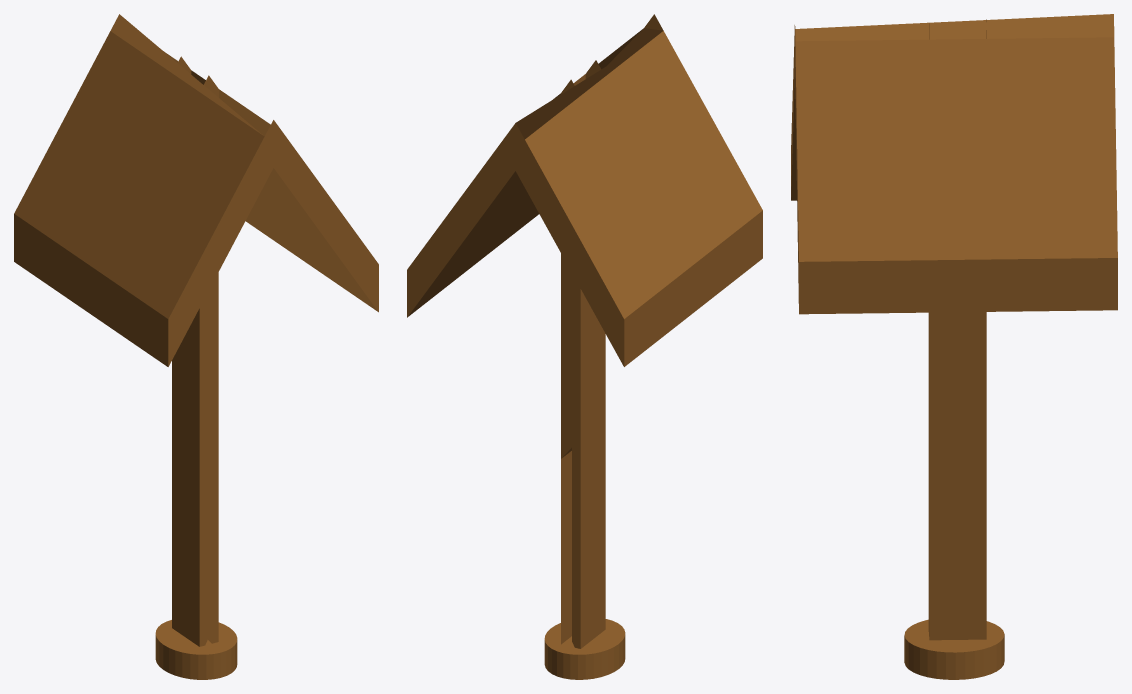
File: batuganan1.fbx
The picture shows the model from 3 angles, left to right: view 1: azimuth 30°, elevation 25°; view 2: azimuth 150°, elevation 25°; view 3: azimuth 270°, elevation 25°; orthographic projection. The views are drawn at different scales.
Parts seen in each view (by area): view 1: batoganan; view 2: batoganan; view 3: batoganan.
Part boxes in pixels (<box>): batoganan: <box>14,14,378,679</box>; batoganan: <box>407,14,762,679</box>; batoganan: <box>791,14,1117,679</box>.
Bounding box in the file's own units: 37.36 × 95.76 × 43.9.
